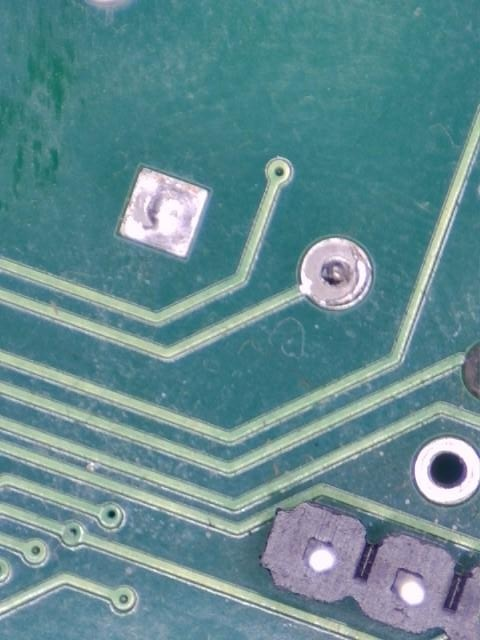pcb_defect: (300, 237, 372, 310)
